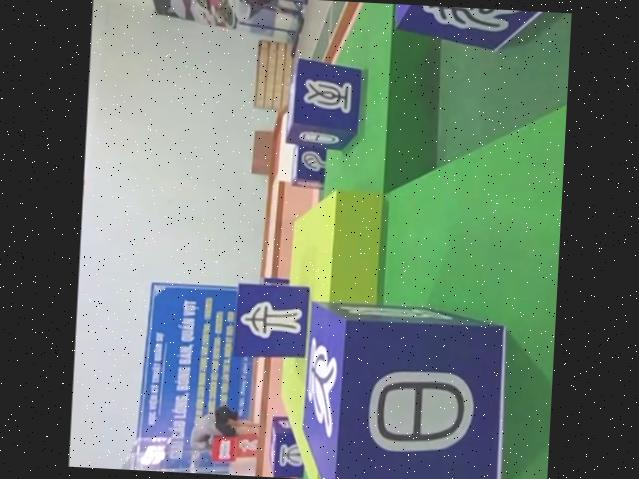R2 Fake Blue: (297, 296, 508, 479), (389, 4, 572, 54), (283, 57, 363, 152), (235, 278, 315, 360), (267, 412, 307, 478), (291, 143, 328, 191)
